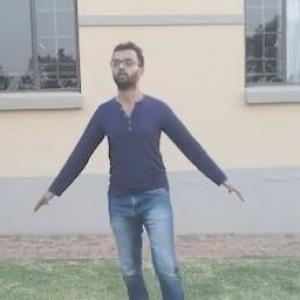land: (53, 35, 262, 299)
